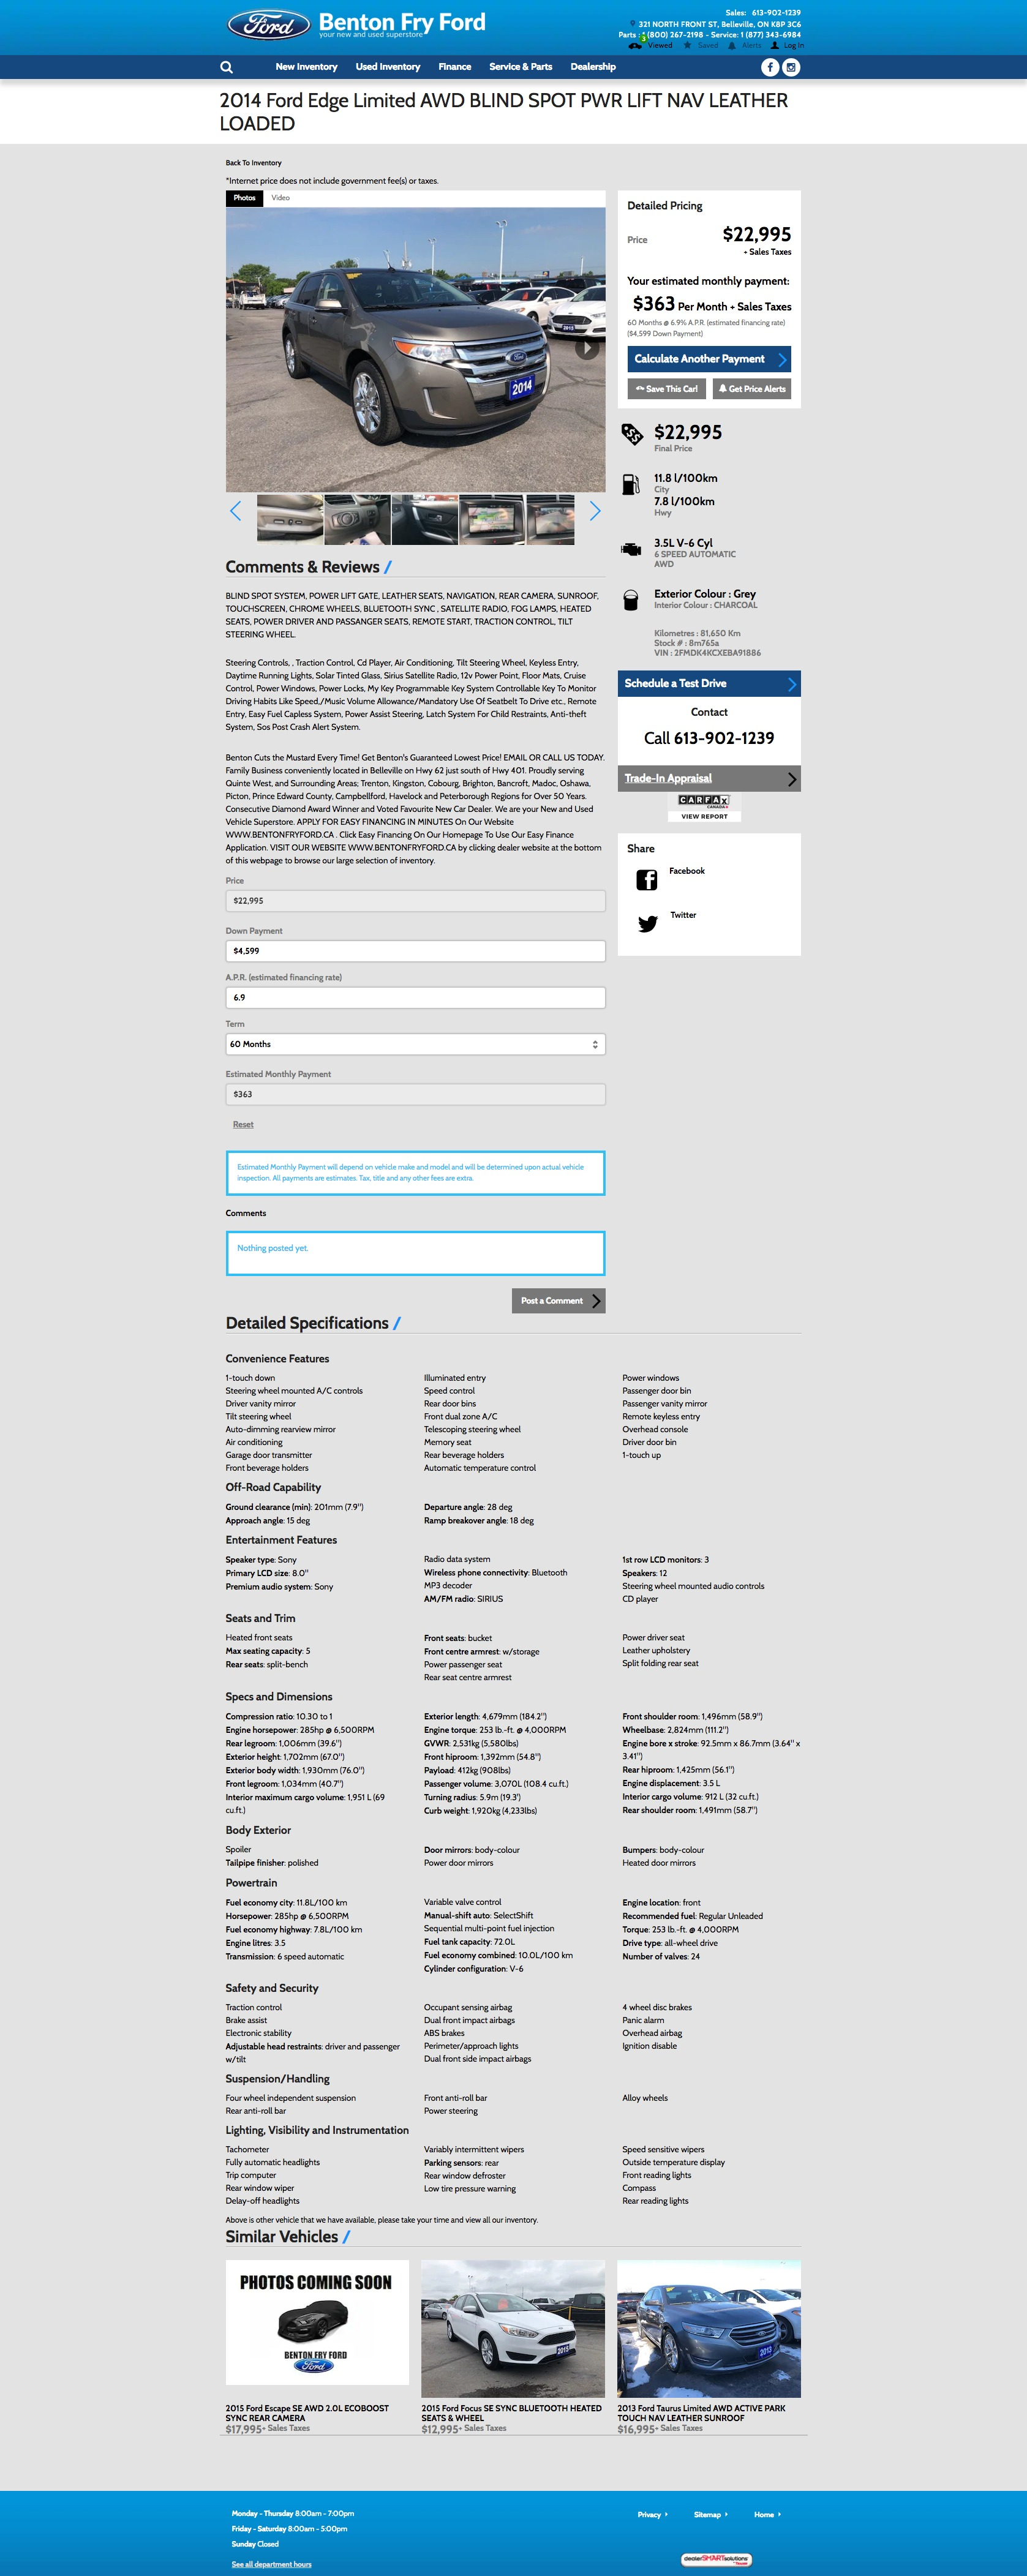car: (590, 501, 603, 524)
